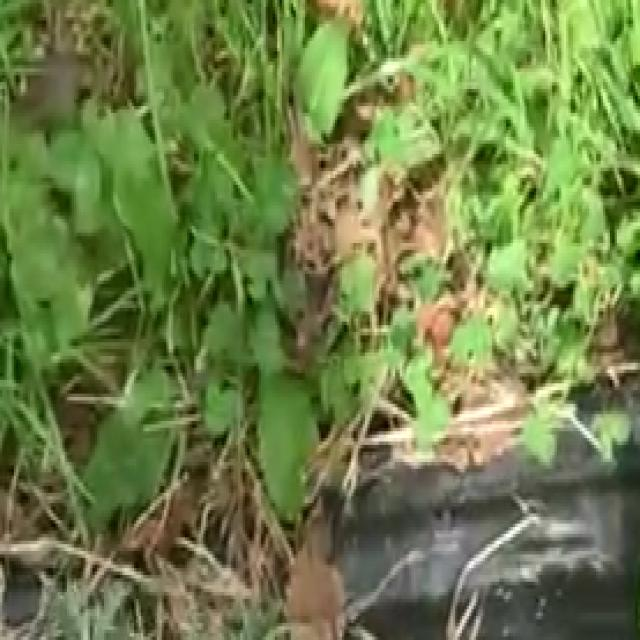organic waste: (46, 45, 372, 544)
